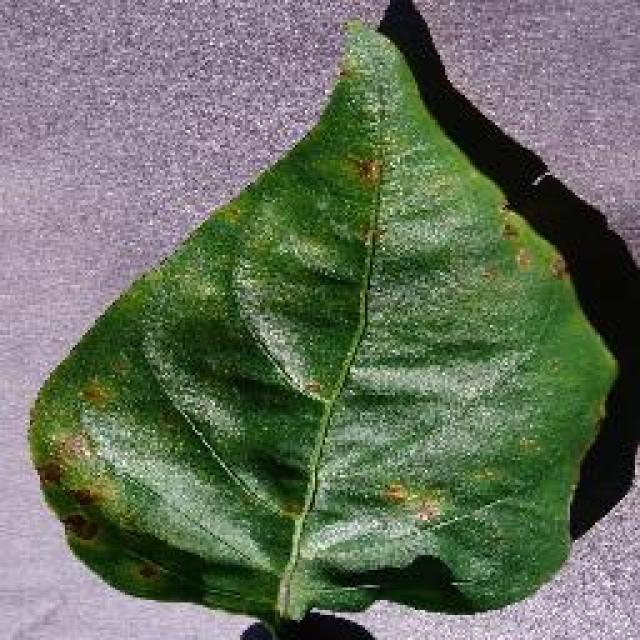Chilli_Bacterial_Spot: (22, 12, 622, 638), (32, 428, 120, 548), (490, 197, 572, 285), (340, 145, 390, 250), (375, 472, 453, 530), (47, 428, 95, 468), (343, 150, 385, 190), (60, 507, 100, 545), (65, 480, 107, 510), (492, 203, 522, 245), (72, 378, 110, 410), (272, 492, 308, 522), (513, 430, 545, 462), (378, 478, 410, 508), (410, 498, 442, 528), (35, 458, 65, 490), (545, 250, 573, 282), (133, 557, 165, 585), (297, 372, 325, 400)
